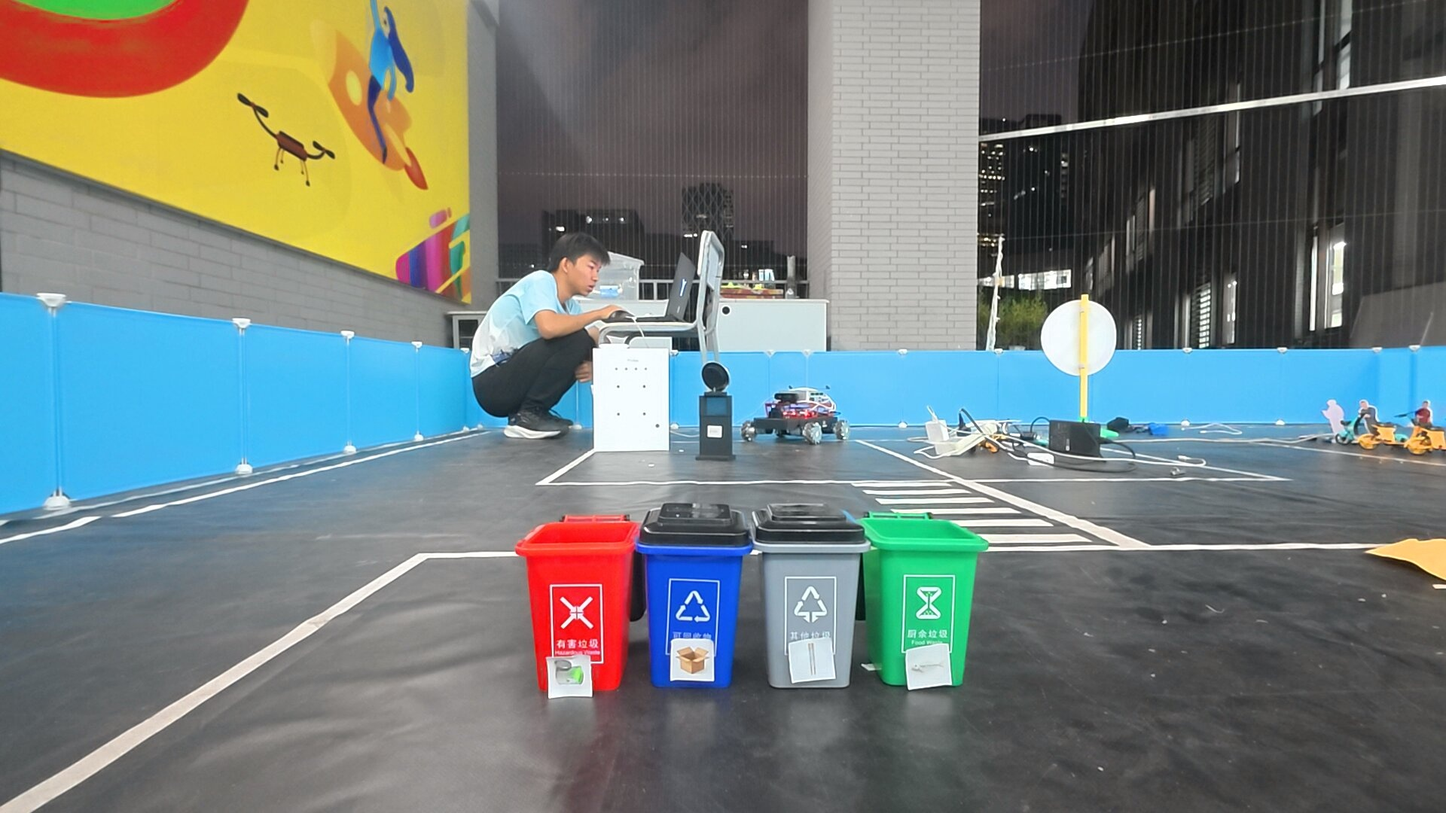food_trash: (908, 651, 947, 683)
hazardous_trash: (547, 660, 589, 695)
other_trash: (793, 643, 831, 678)
recyclable_trash: (671, 641, 712, 678)
